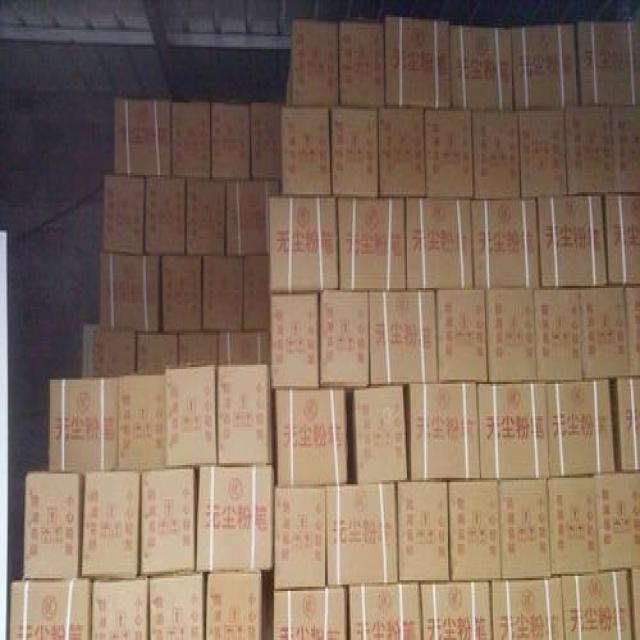box: (196, 467, 274, 572), (326, 482, 397, 582), (408, 384, 480, 482), (479, 382, 550, 478), (274, 390, 348, 482), (564, 107, 640, 196), (49, 375, 118, 471), (269, 196, 337, 292), (547, 378, 614, 474), (338, 196, 406, 290), (539, 196, 607, 290), (370, 292, 436, 388), (23, 476, 84, 578), (471, 201, 540, 290), (81, 474, 141, 576), (404, 198, 472, 288), (383, 19, 452, 107), (140, 469, 197, 574), (511, 23, 580, 109), (575, 19, 640, 107), (351, 384, 408, 482), (275, 484, 326, 589), (164, 365, 216, 467), (447, 480, 500, 580), (397, 482, 451, 580), (451, 23, 511, 111), (317, 290, 370, 388), (499, 480, 550, 580), (548, 478, 599, 578), (268, 292, 320, 388), (517, 107, 570, 201), (435, 288, 488, 382), (561, 572, 634, 640), (116, 371, 165, 469), (219, 367, 270, 461), (9, 580, 91, 638), (280, 107, 333, 196), (490, 578, 566, 640), (204, 572, 273, 640), (485, 290, 536, 382), (113, 96, 172, 175), (532, 288, 581, 382), (101, 252, 159, 331), (225, 177, 282, 256), (378, 109, 429, 196), (594, 471, 640, 567), (424, 111, 472, 201), (472, 111, 520, 201), (580, 288, 628, 378), (420, 580, 492, 640), (338, 21, 385, 107), (349, 585, 422, 640), (292, 17, 337, 105), (332, 109, 378, 194), (148, 574, 206, 640), (274, 589, 348, 640), (91, 576, 148, 640), (101, 175, 145, 256), (202, 254, 244, 333), (209, 100, 250, 179), (145, 177, 187, 254), (603, 196, 639, 284), (170, 100, 211, 177), (186, 177, 227, 254), (161, 254, 201, 331), (81, 324, 136, 375), (614, 378, 640, 471), (250, 107, 282, 177), (242, 256, 269, 333), (136, 333, 180, 375), (218, 333, 270, 367), (625, 288, 640, 380), (178, 333, 218, 367), (632, 570, 640, 640), (287, 60, 291, 111)
